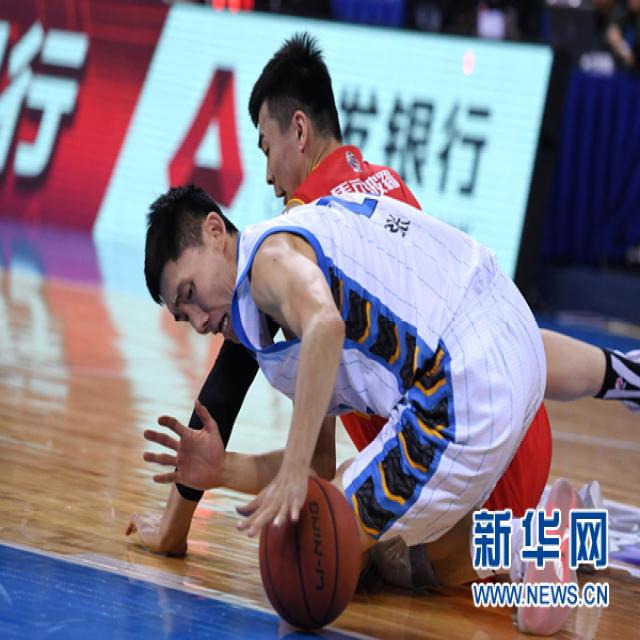fall: (140, 189, 540, 578)
